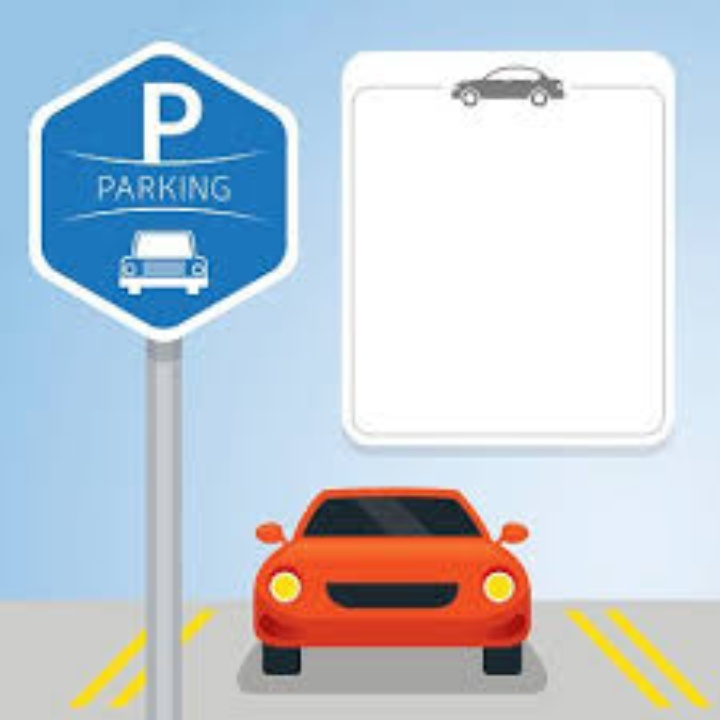parking: (136, 74, 207, 167)
